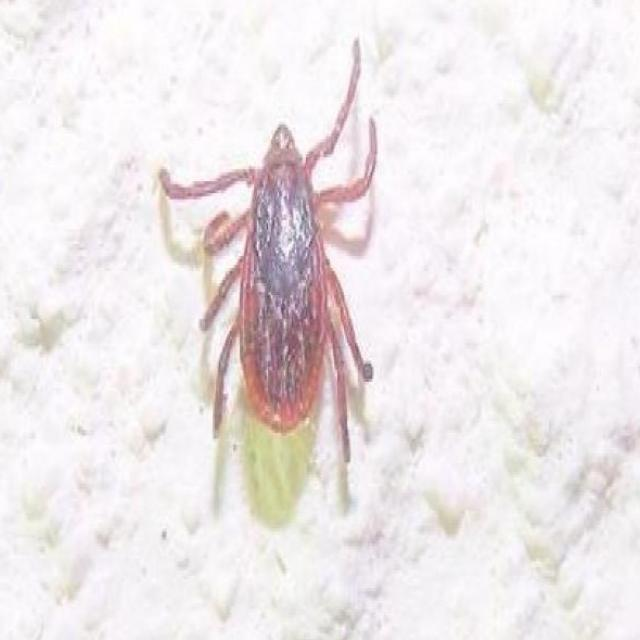Rhipicephalus Sanguineus-F: (158, 106, 377, 475)
